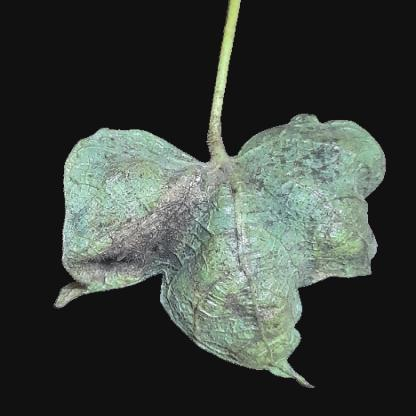sooty: (142, 177, 228, 272), (256, 145, 364, 213)
